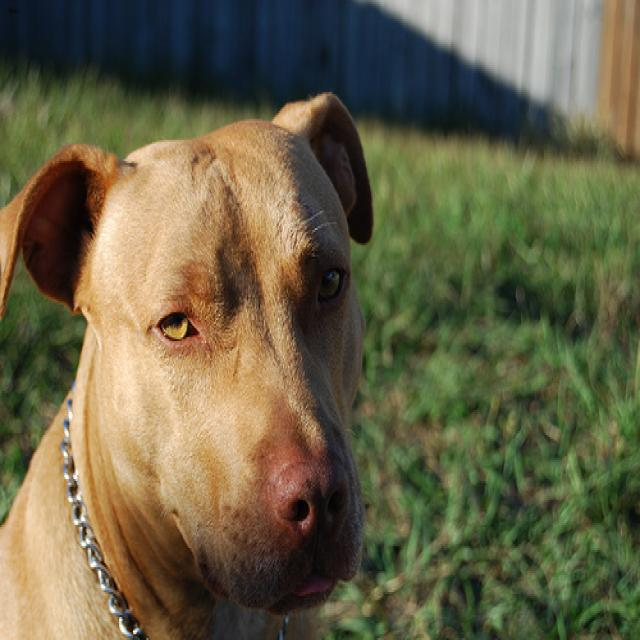dog-american_pit_bull_terrier: (1, 80, 380, 636)
